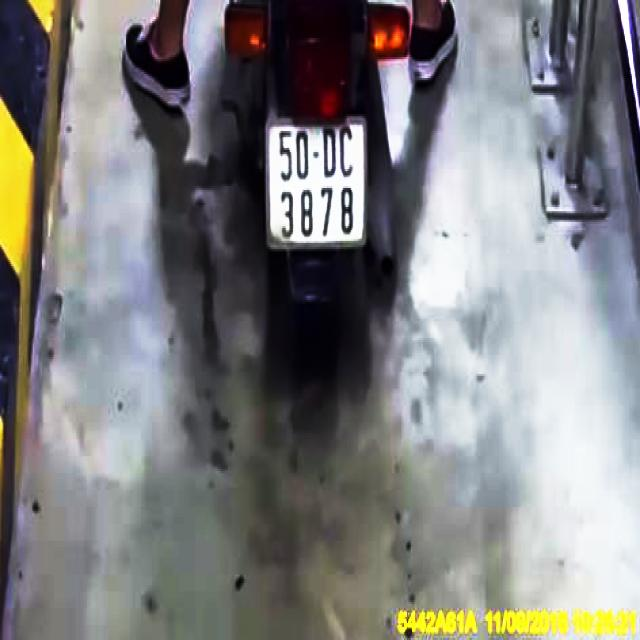license_plate: (266, 117, 368, 249)
